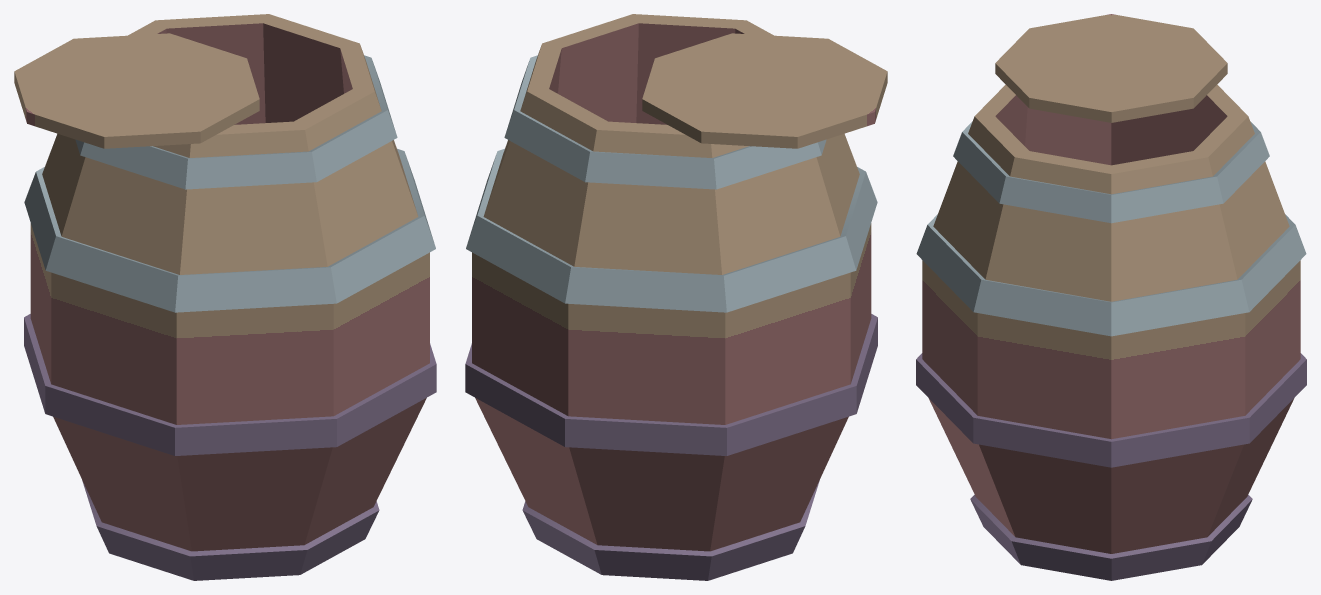
Rendered from tonneau_02.fbx.
3 renders of one model, left to right at view 1: azimuth 30°, elevation 25°; view 2: azimuth 150°, elevation 25°; view 3: azimuth 270°, elevation 25°, orthographic. The views are drawn at different scales.
Parts seen in each view (by area): view 1: tonneau_02; view 2: tonneau_02; view 3: tonneau_02.
Boxes of the visible parts, x1,y1,x2,y2 form: tonneau_02: (14, 14, 436, 580); tonneau_02: (465, 14, 887, 580); tonneau_02: (916, 14, 1306, 580).
Size of the model in its own units: 1.23 by 1.4 by 1.17.
1 material, 1 textured.
